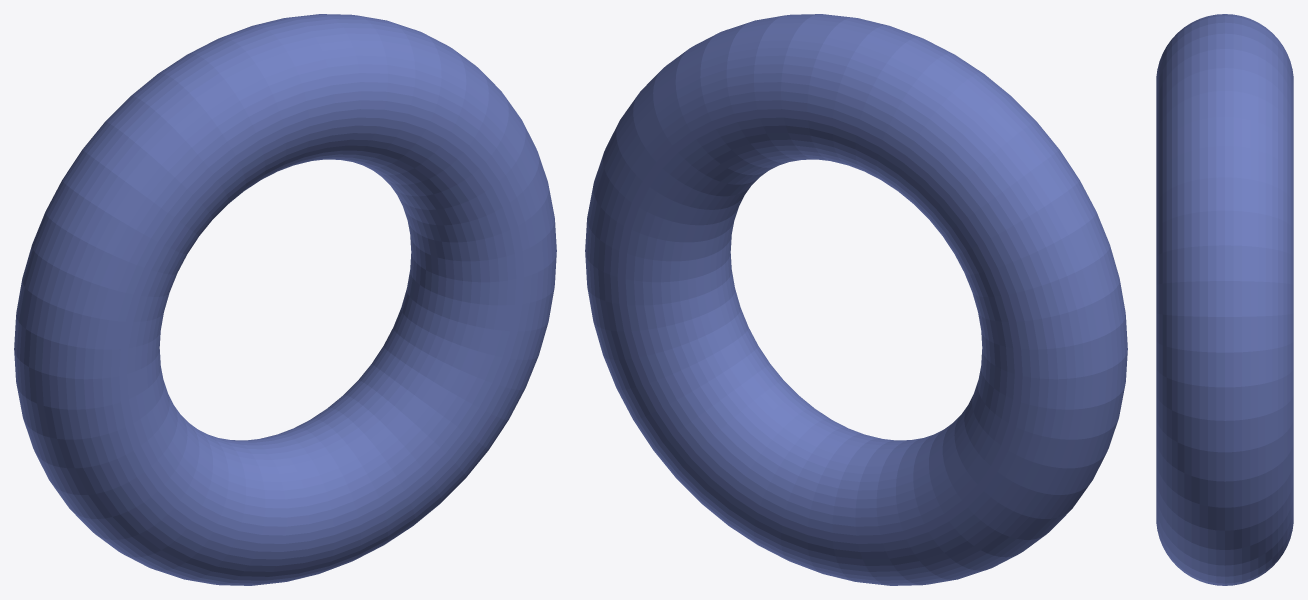
The picture shows the model from 3 angles, left to right: view 1: azimuth 30°, elevation 25°; view 2: azimuth 150°, elevation 25°; view 3: azimuth 270°, elevation 25°; orthographic projection. The views are drawn at different scales.
Visible parts, largest first — view 1: world; view 2: world; view 3: world.
Part boxes in pixels (<box>): world: <box>14,14,556,585</box>; world: <box>585,14,1127,585</box>; world: <box>1156,14,1293,585</box>.
Bounding box in the file's own units: 14.93 × 14.9 × 3.59.
